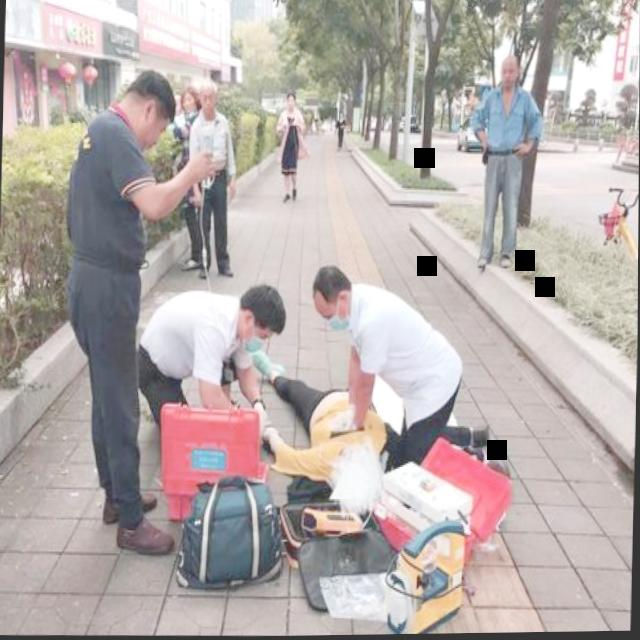Fall-Detected: (239, 344, 415, 518)
